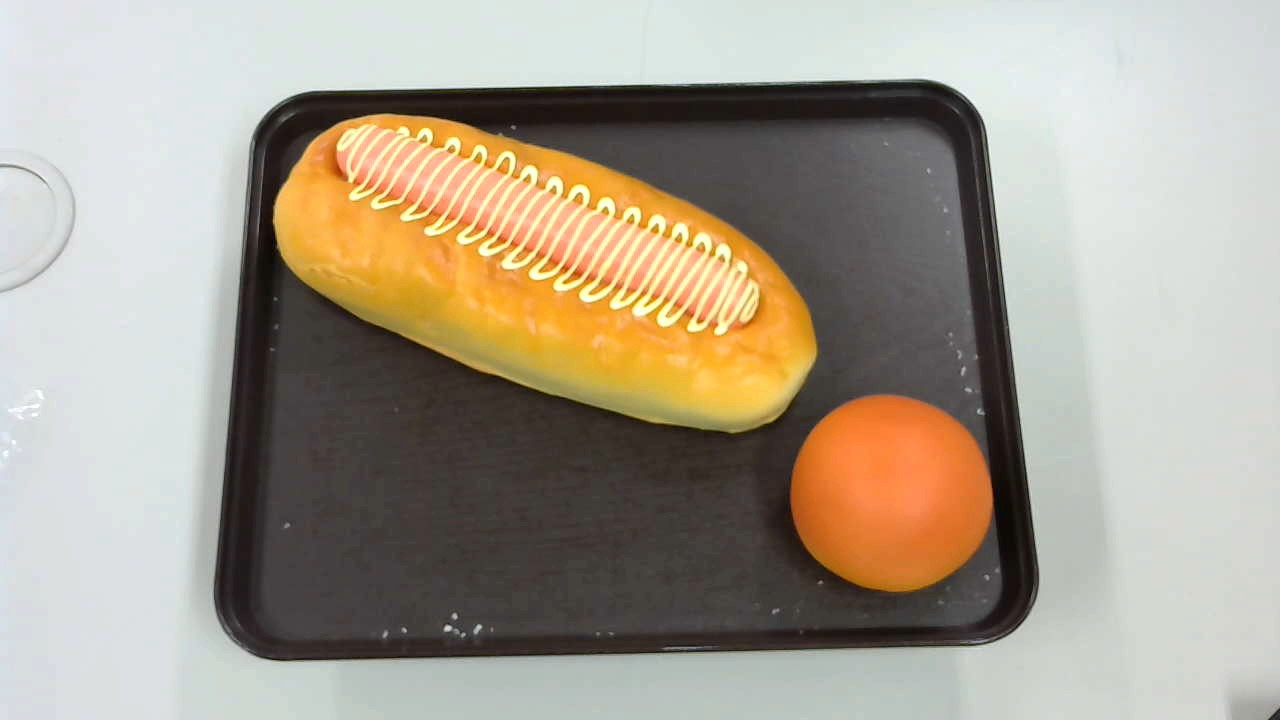bun: (790, 393, 993, 593)
hot dog: (271, 110, 817, 435)
